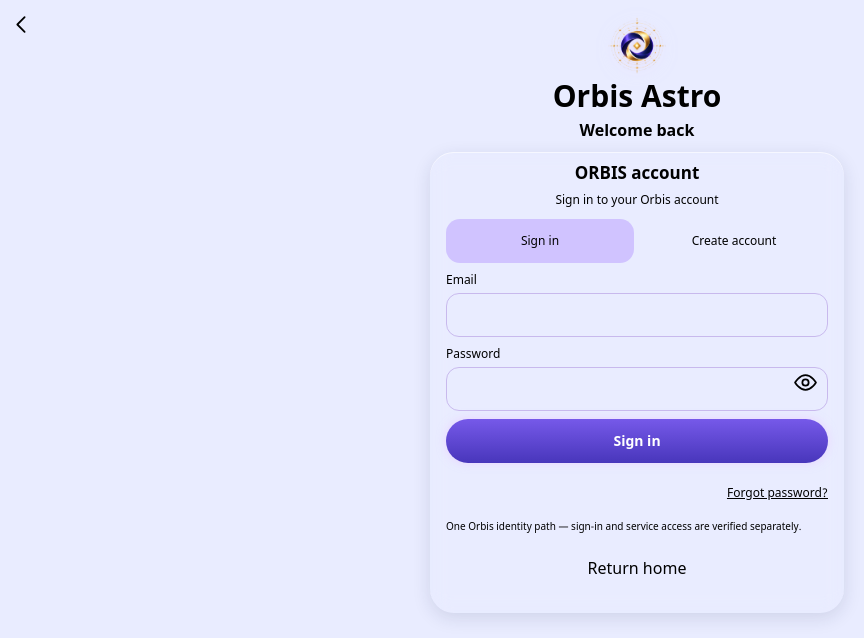
Test: leaves recovery and returns to account login
The width and height of the screenshot is (864, 638).
Step 1. Click the button with class "recovery-link" → (778,493), box [727, 471, 828, 515]
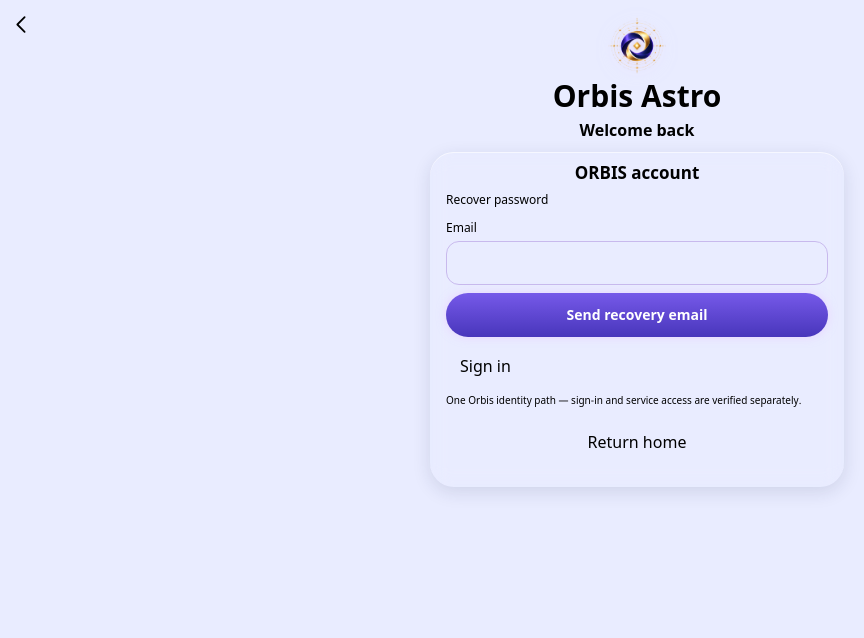
Step 2. Click the button "Sign in" → (485,367), box [446, 345, 525, 389]
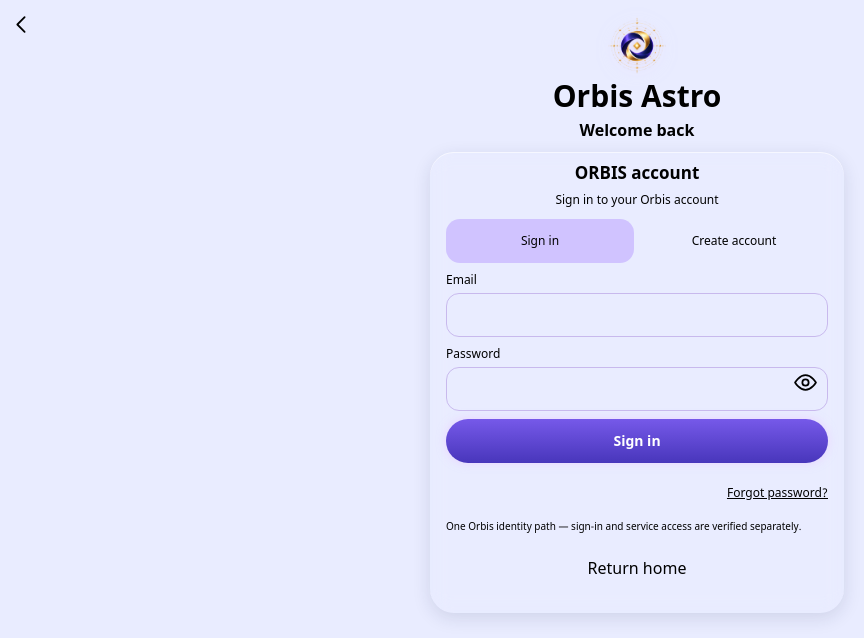
Result: the button with class "recovery-link" is shown at [727, 471, 828, 515]
